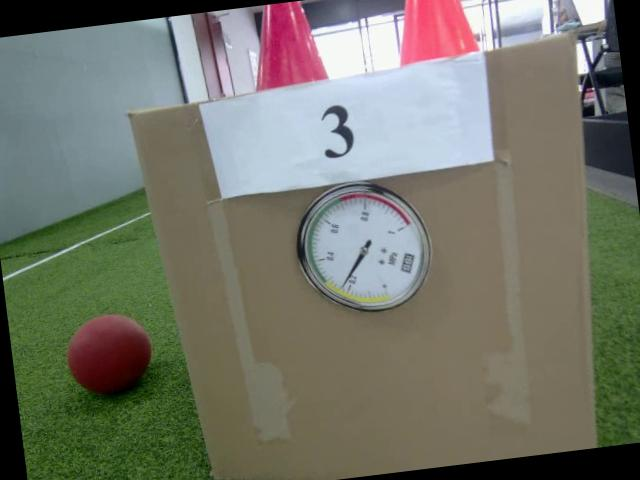3: (317, 103, 356, 161)
Dashboard: (287, 176, 438, 322)
orange_barrel: (396, 0, 478, 62)
red_ball: (61, 309, 156, 398)
red_barrel: (250, 0, 327, 88)
ssi: (399, 250, 416, 276)
